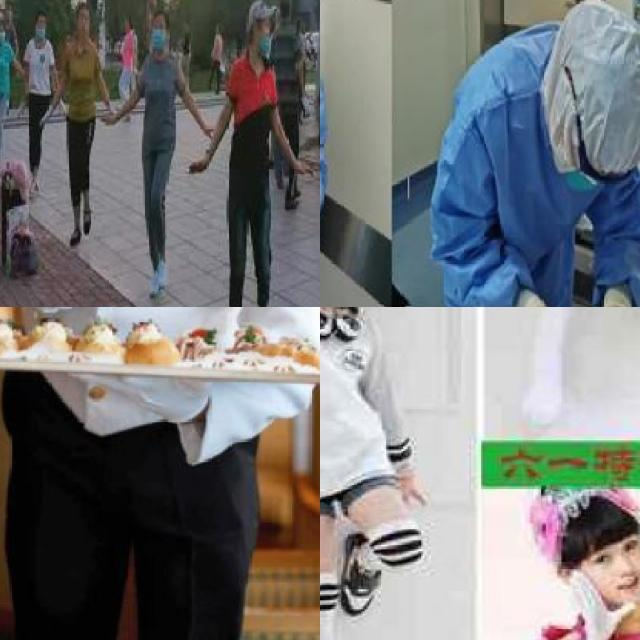face_mask: (145, 19, 174, 51), (256, 16, 276, 58), (36, 16, 48, 40), (0, 25, 11, 45)
hand_glove: (68, 369, 211, 426), (569, 566, 635, 640), (38, 102, 52, 126), (14, 97, 25, 116)
hand_noglove: (396, 472, 432, 507), (185, 154, 206, 177), (97, 108, 116, 128), (296, 159, 314, 179), (203, 122, 214, 139)
head_nohelmet: (535, 488, 634, 556), (240, 0, 283, 29), (150, 6, 172, 25), (74, 0, 94, 19)
person: (378, 0, 640, 307), (320, 307, 458, 640), (211, 0, 306, 307), (128, 5, 193, 297), (522, 483, 640, 640), (52, 2, 121, 243), (0, 11, 28, 157)
shoes: (329, 530, 389, 620)
